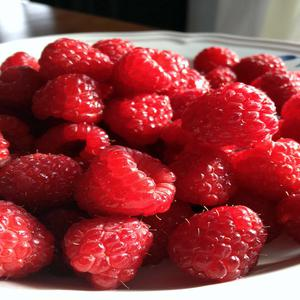raspb: (4, 59, 300, 279)
